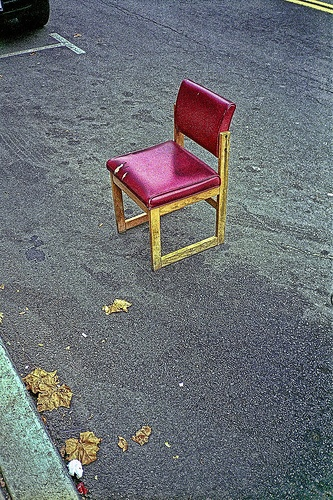obstacle: (107, 79, 235, 270)
